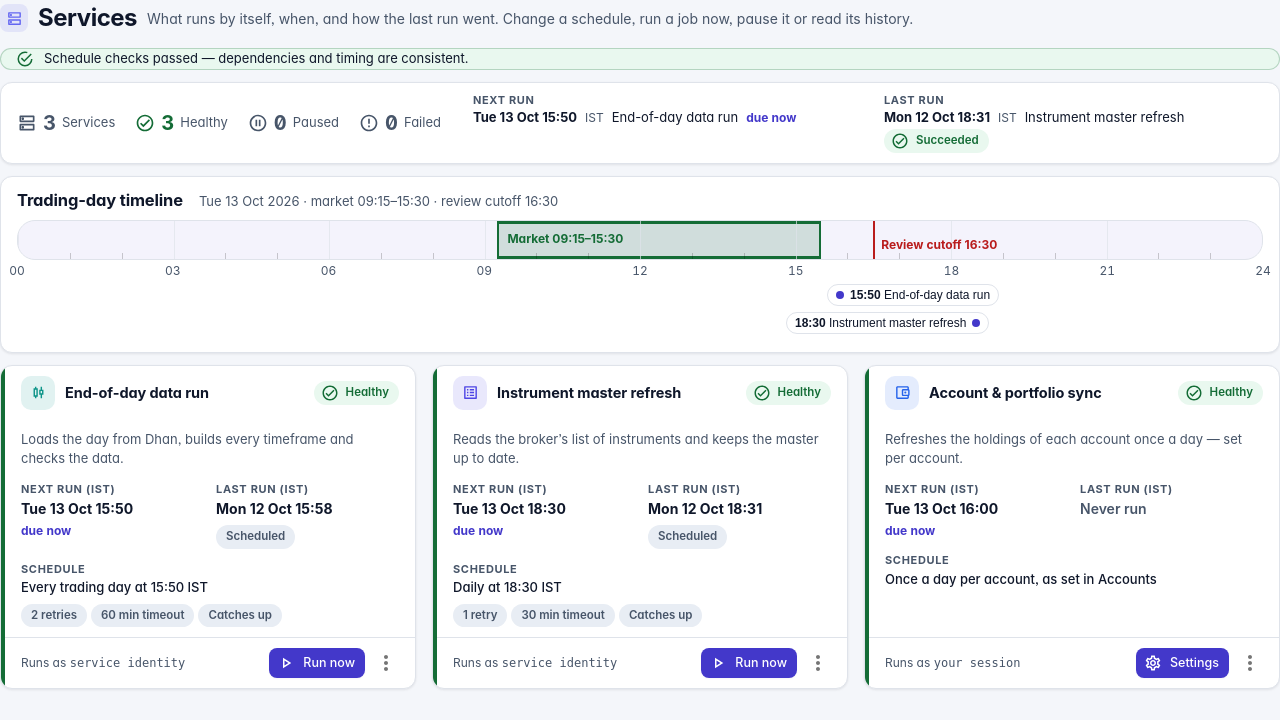
Services: the settings of the account sync › also opens from the Settings… item of the menu, and closes with Done, back to the button
Click the button named "Actions for Account & portfolio sync" at (1250, 663), box [1233,646,1267,680]
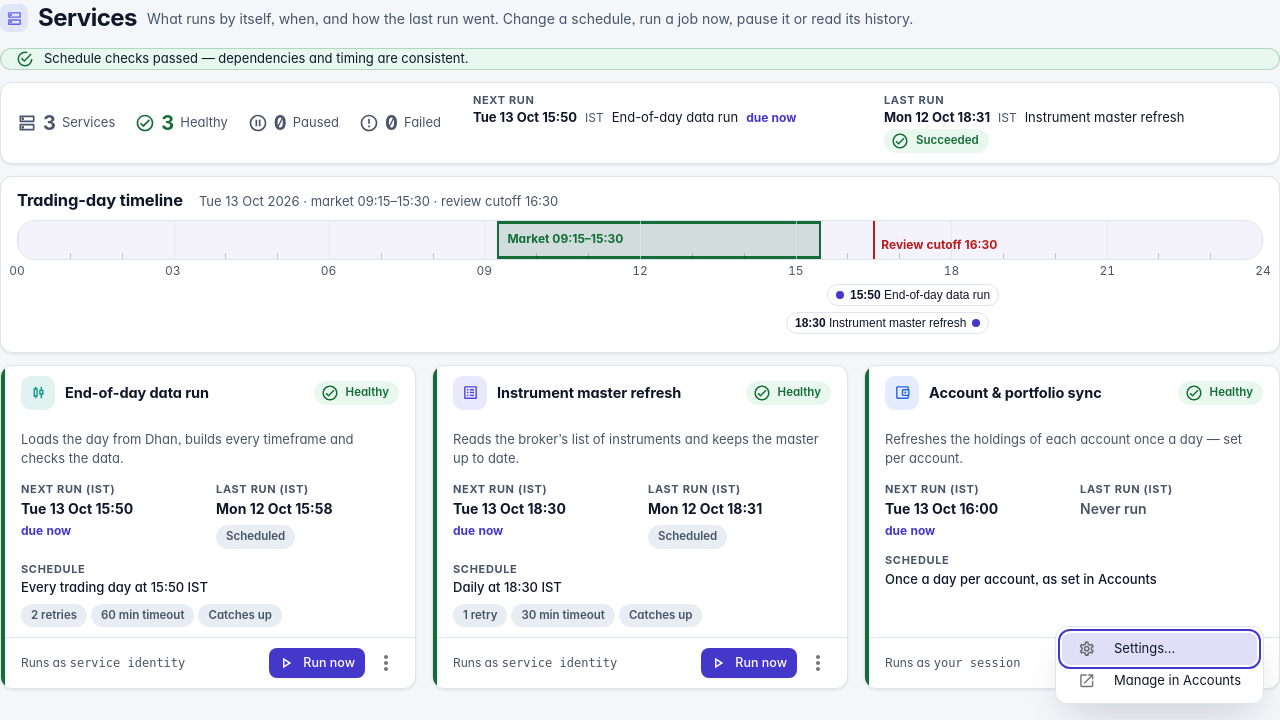
Click the menu item "Settings…" at (1160, 649), box [1062,633,1257,665]
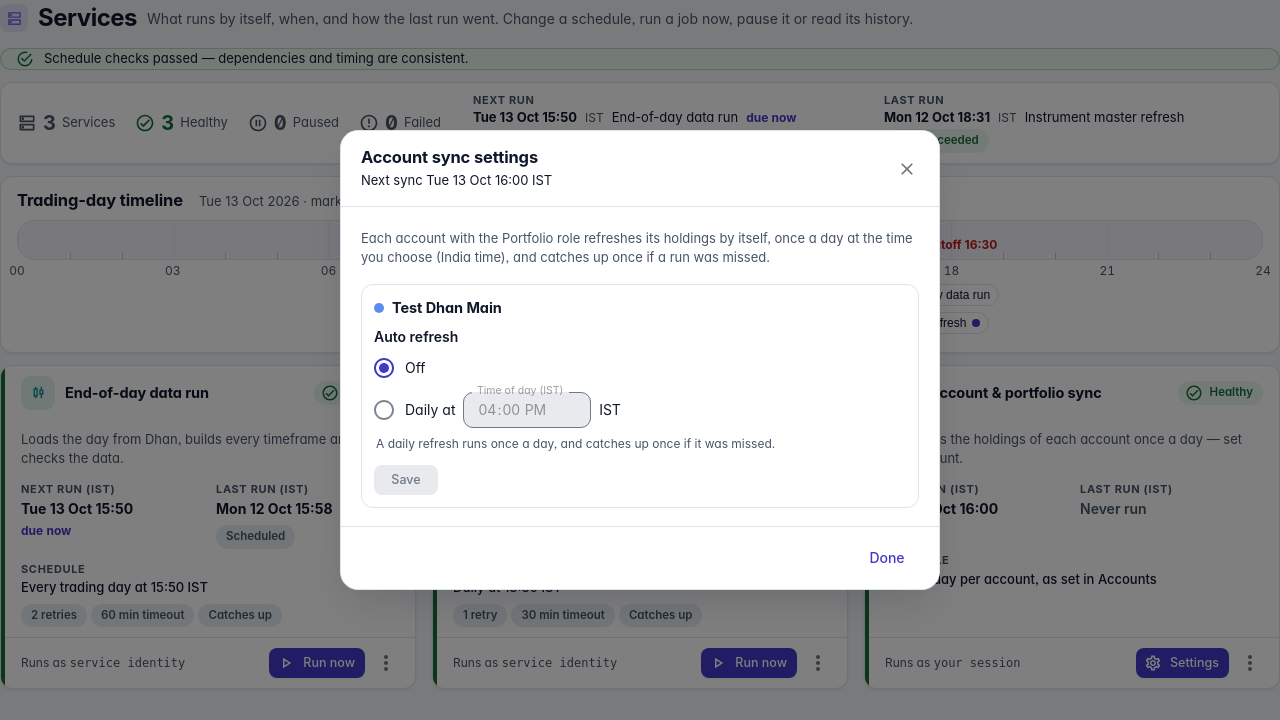
Click the button "Done" at (887, 558), box [855,540,919,576]
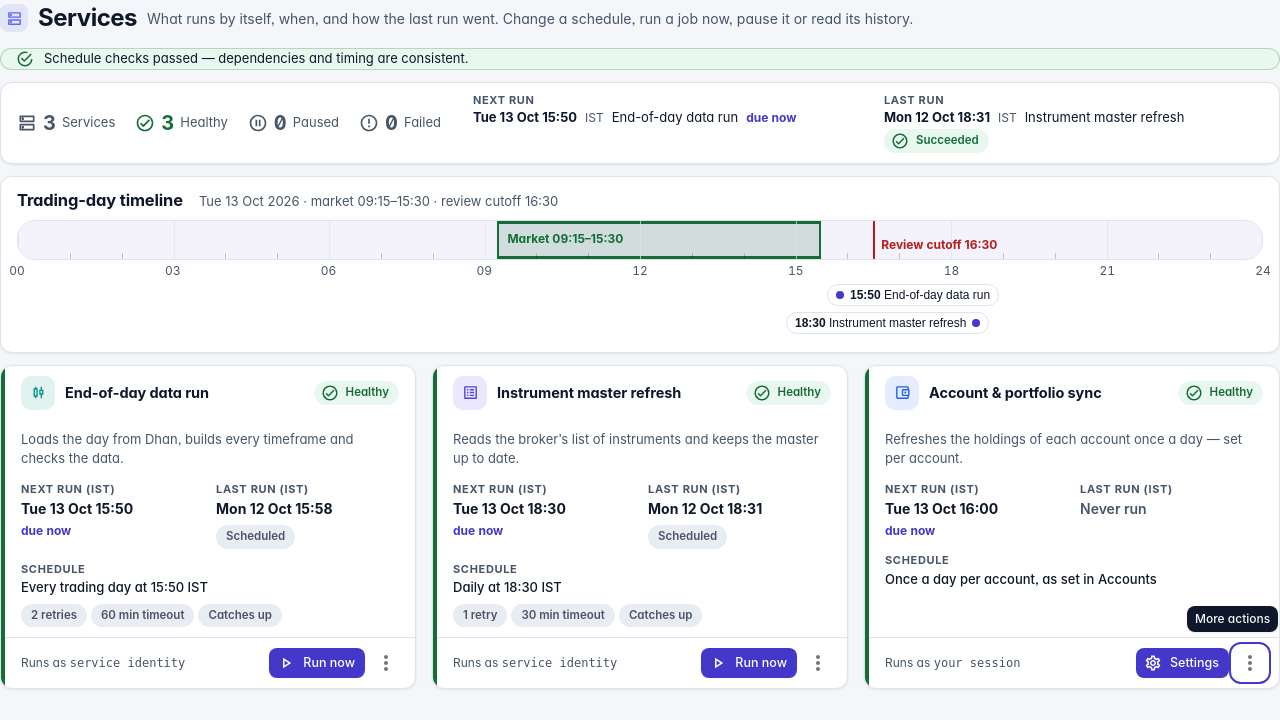
Check: the dialog is gone
